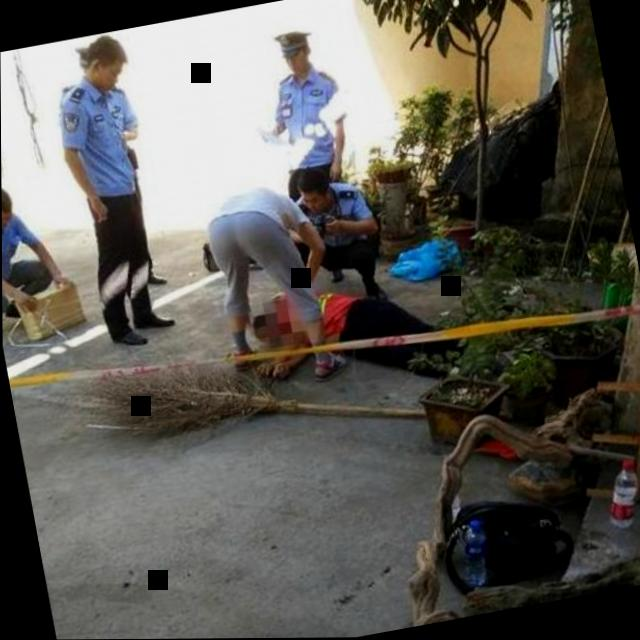Fall-Detected: (250, 244, 493, 415)
